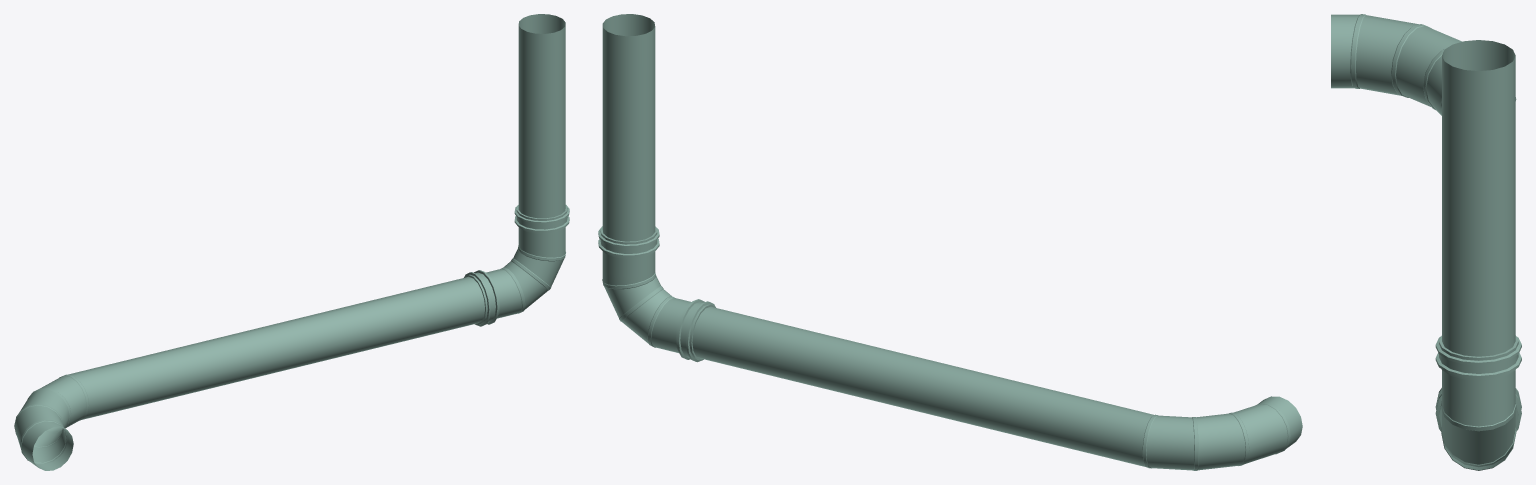
The model's file is PipeComplexLarge_B_04.fbx.
3 views of the same model, side by side, from view 1: azimuth 30°, elevation 25°; view 2: azimuth 150°, elevation 25°; view 3: azimuth 270°, elevation 25° (orthographic). The views are drawn at different scales.
Parts seen in each view (by area): view 1: PipeComplexLarge_B_04.001; view 2: PipeComplexLarge_B_04.001; view 3: PipeComplexLarge_B_04.001.
Part boxes in pixels (bbox=[...]): PipeComplexLarge_B_04.001: bbox=[14, 14, 569, 470]; PipeComplexLarge_B_04.001: bbox=[598, 14, 1302, 470]; PipeComplexLarge_B_04.001: bbox=[1331, 14, 1521, 470].
Bounding box in the file's own units: 2.82 × 1.32 × 0.5167.
